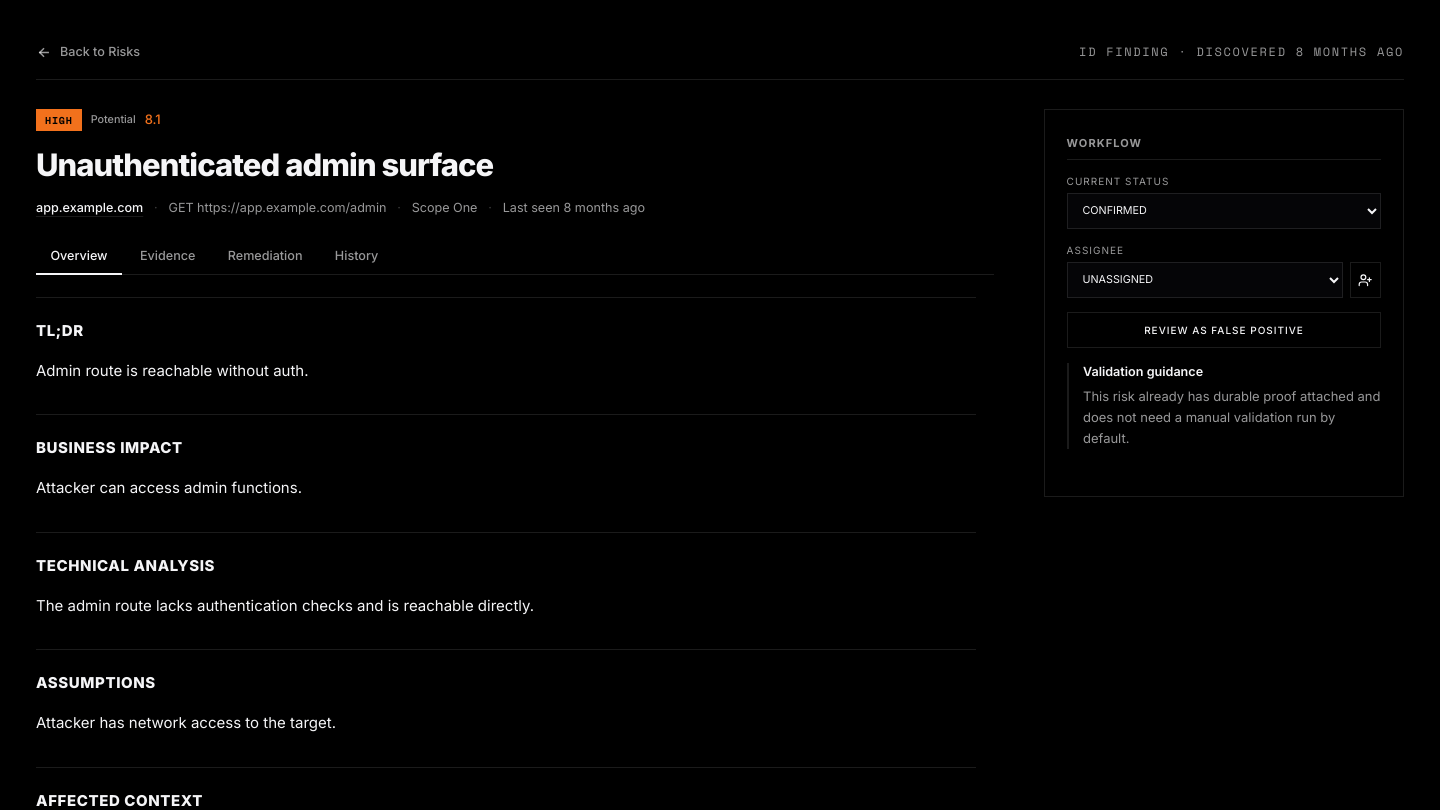
FindingDetailPage validation workflow › renders Copy Fix Prompt and Code Locations in Remediation tab when reviewMeta indicates it
Click the tab "Remediation": [265, 256] box [213, 238, 317, 274]
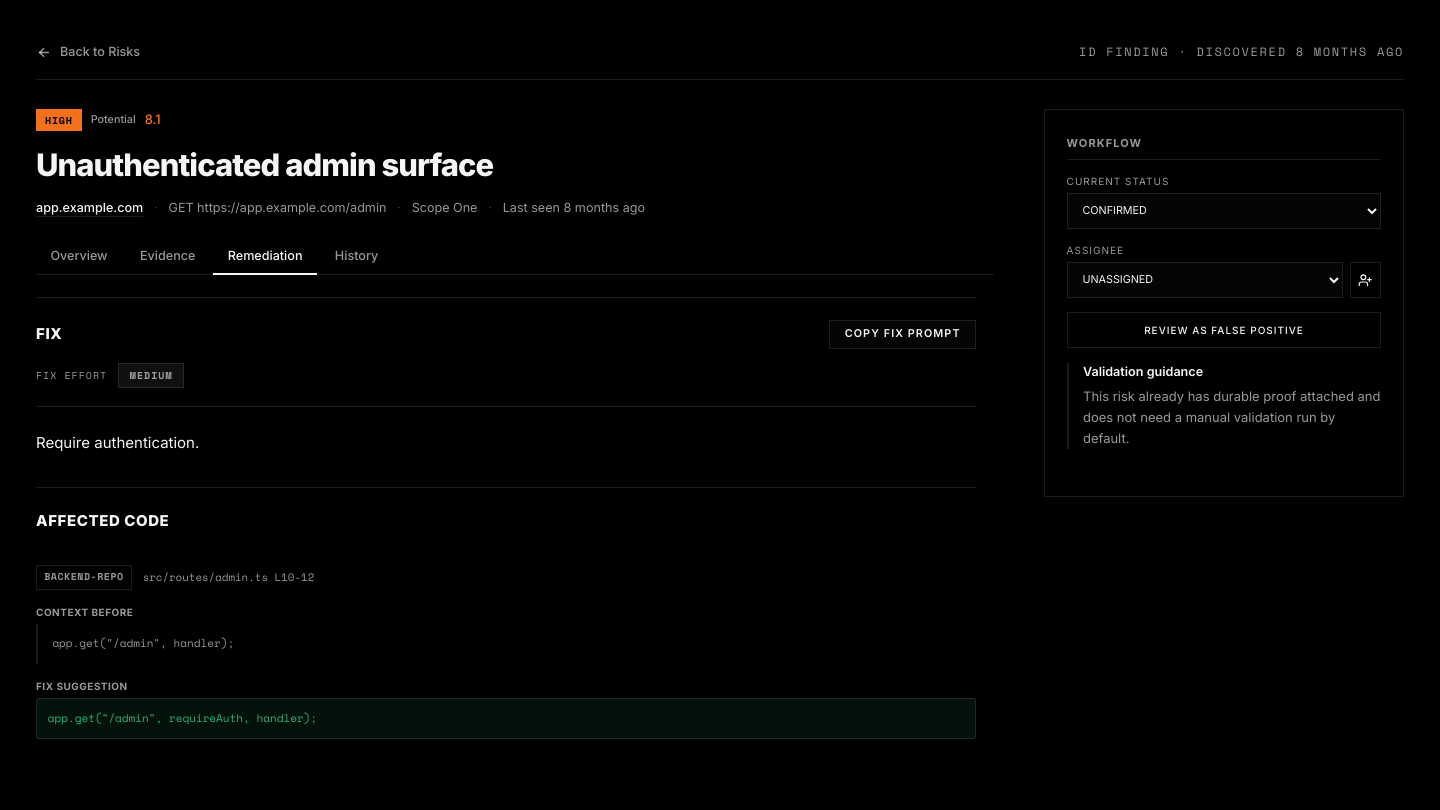
Expected: the button "Copy Fix Prompt" is shown, [829, 320, 976, 349]
Expected: the heading "Affected Code" is shown, [36, 510, 169, 532]
Expected: the text "backend-repo" is shown, [36, 564, 132, 590]
